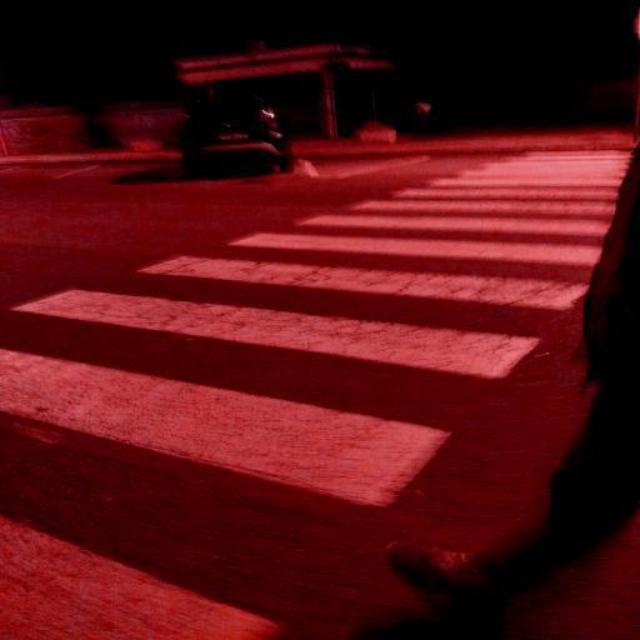sidewalk: (0, 151, 629, 640)
